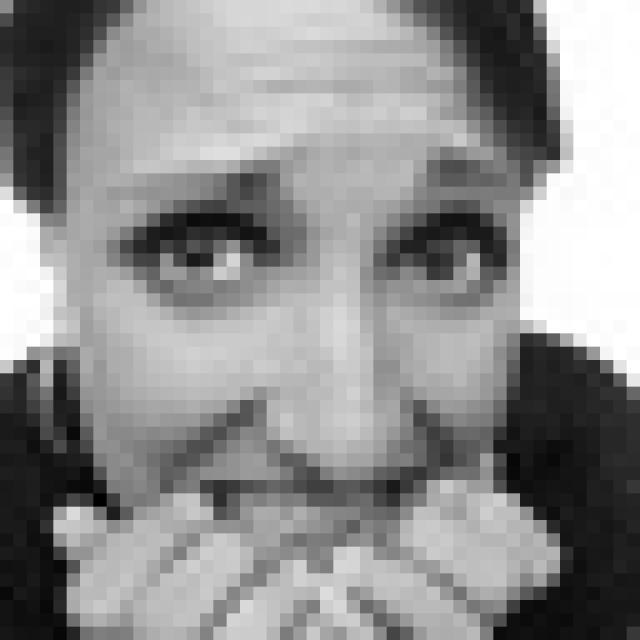fear: (99, 127, 514, 593)
